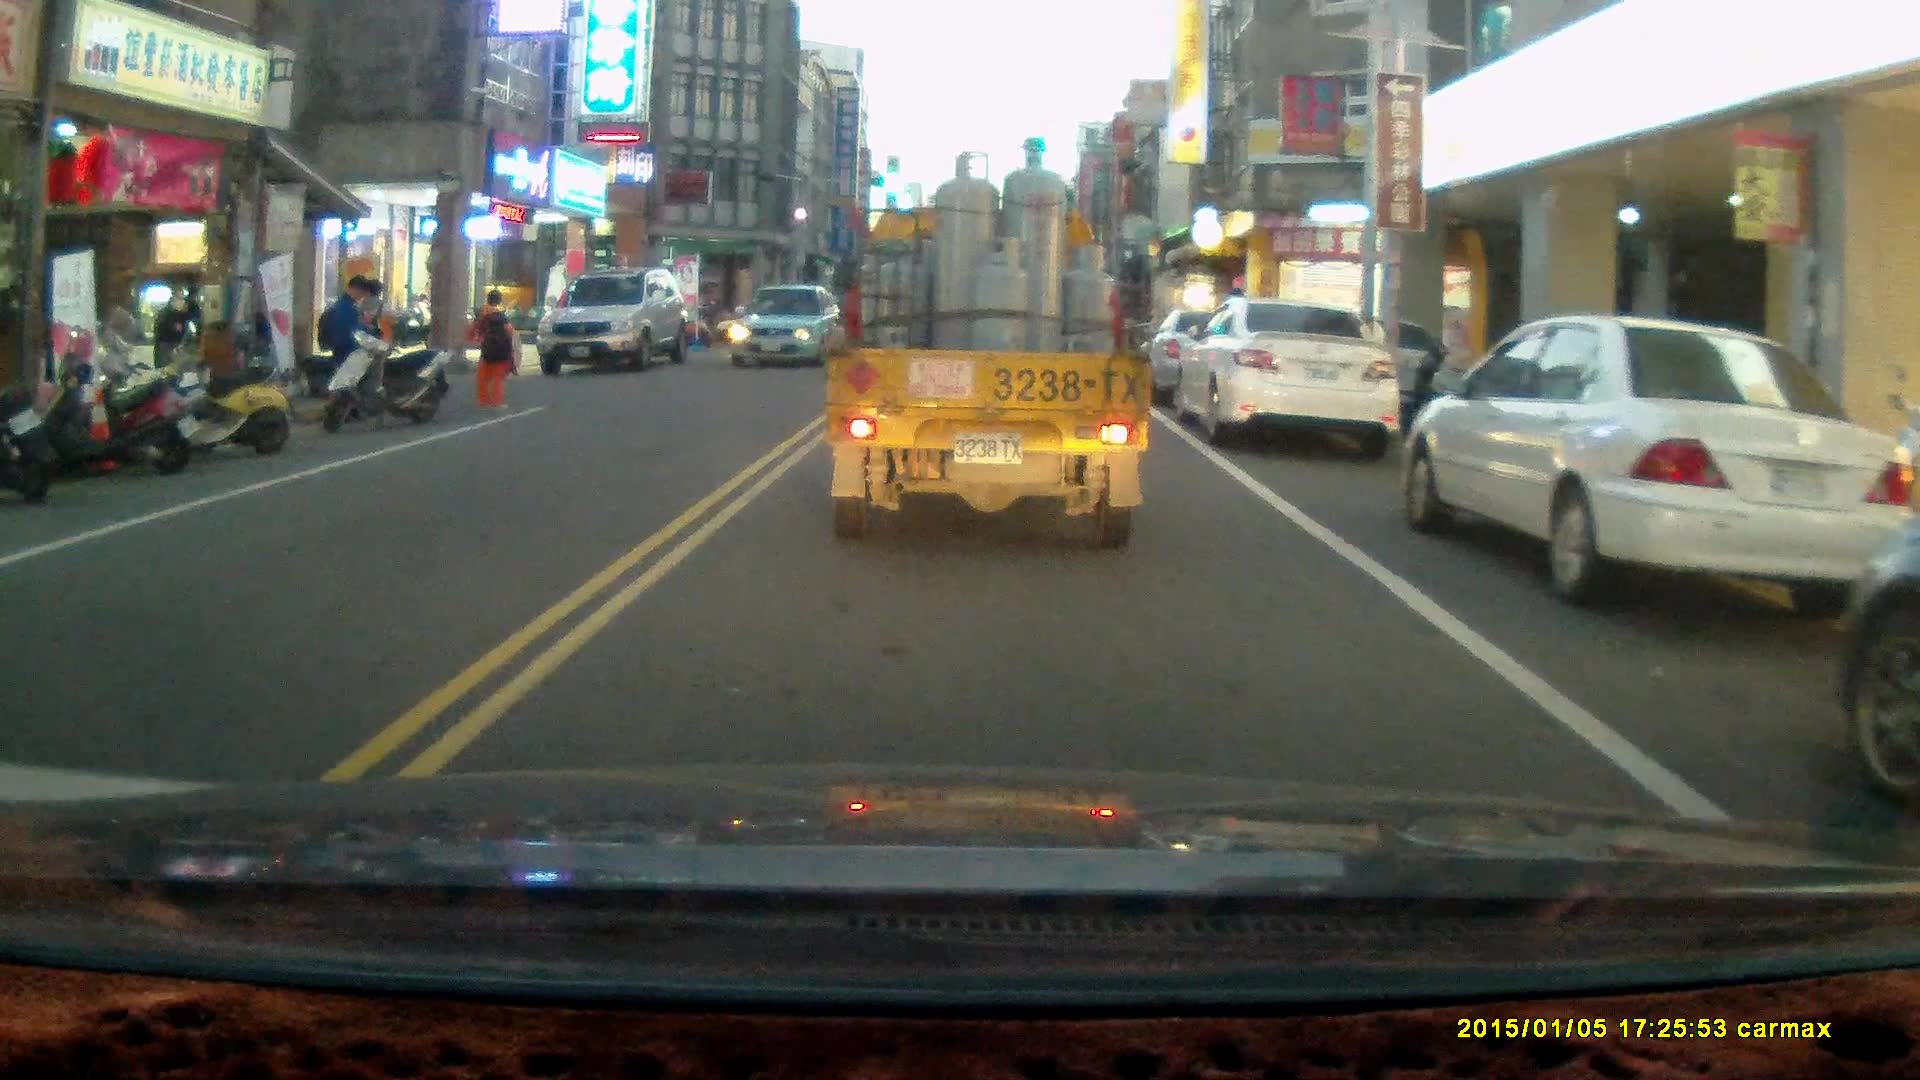pedestrian: (306, 275, 369, 424), (150, 283, 199, 432), (464, 288, 515, 407)
vehicle: (1400, 313, 1920, 615), (822, 145, 1157, 551), (1175, 297, 1408, 453), (535, 270, 695, 376), (727, 284, 846, 369)
